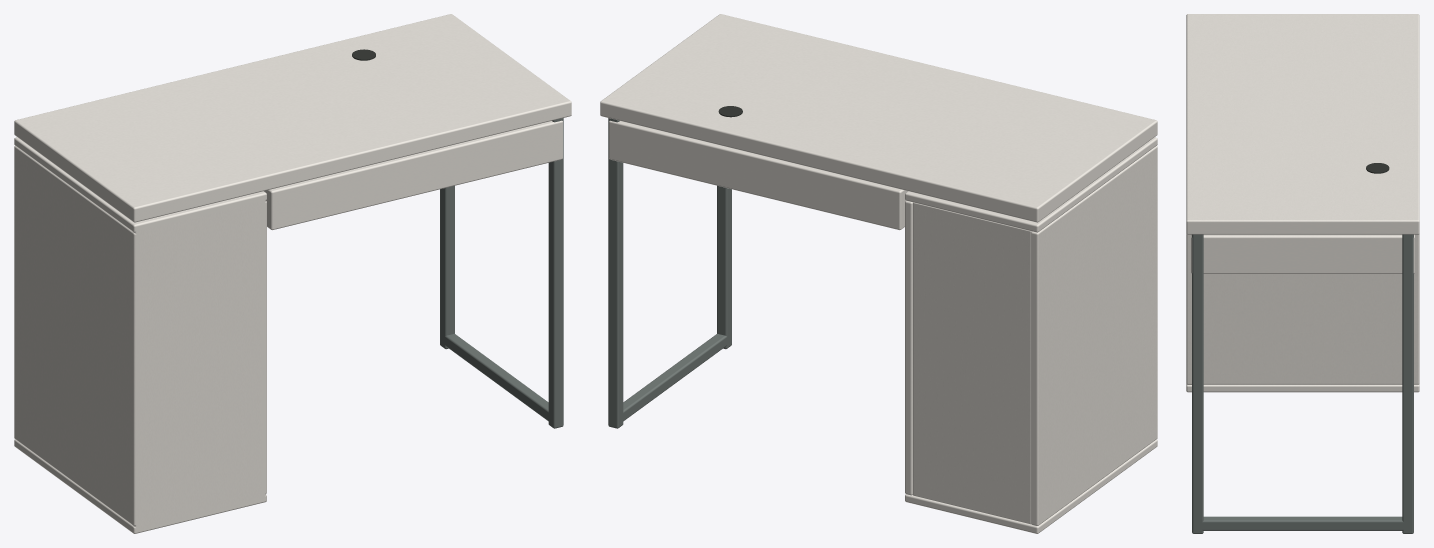
The model's file is micke.glb.
3 renders of one model, left to right at view 1: azimuth 30°, elevation 25°; view 2: azimuth 150°, elevation 25°; view 3: azimuth 270°, elevation 25°, orthographic. The views are drawn at different scales.
Visible parts, largest first — view 1: MICKE Desk; view 2: MICKE Desk; view 3: MICKE Desk.
Boxes of the visible parts, x1,y1,x2,y2 form: MICKE Desk: (14, 14, 571, 533); MICKE Desk: (600, 14, 1157, 533); MICKE Desk: (1186, 14, 1419, 533).
Size of the model in its own units: 1.05 by 0.75 by 0.5.
Materials: 3 (2 with a texture image).
